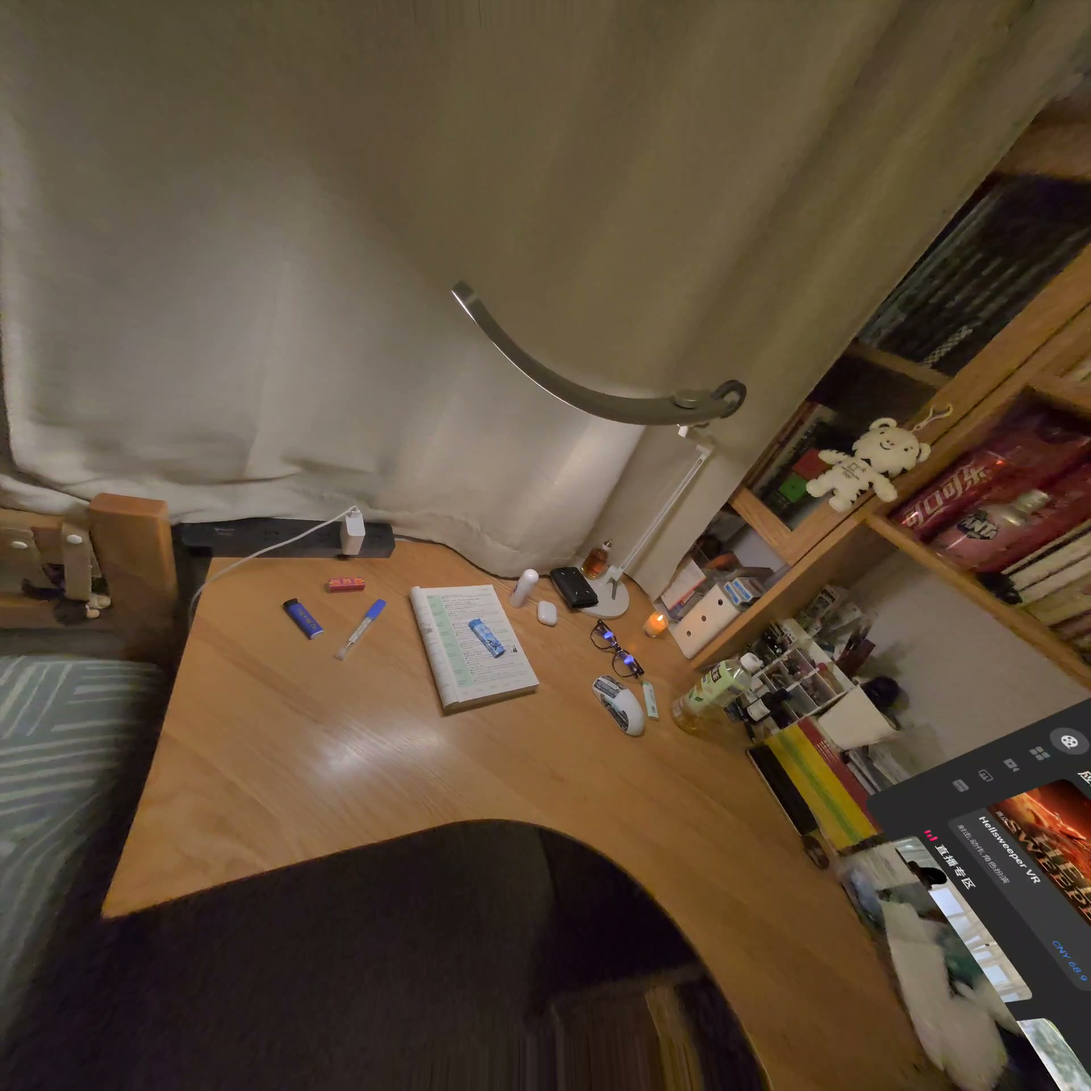lighter: (469, 618, 504, 657)
